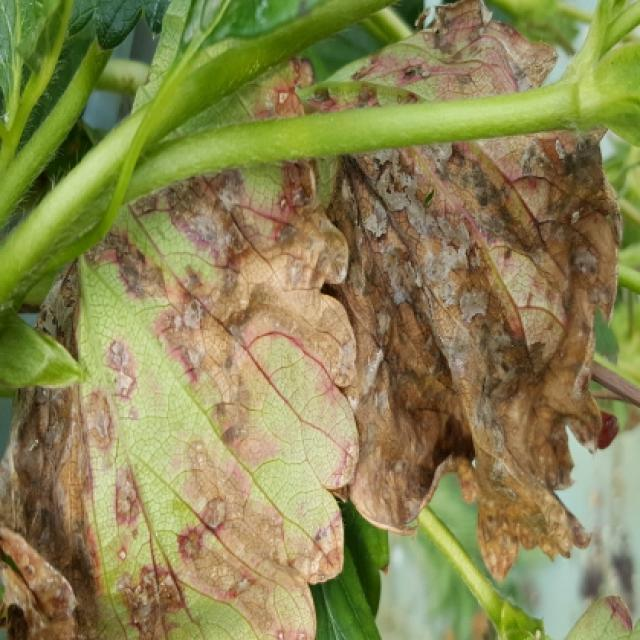Angular Leafspot: (0, 40, 360, 638), (303, 0, 625, 581), (0, 524, 79, 638)
